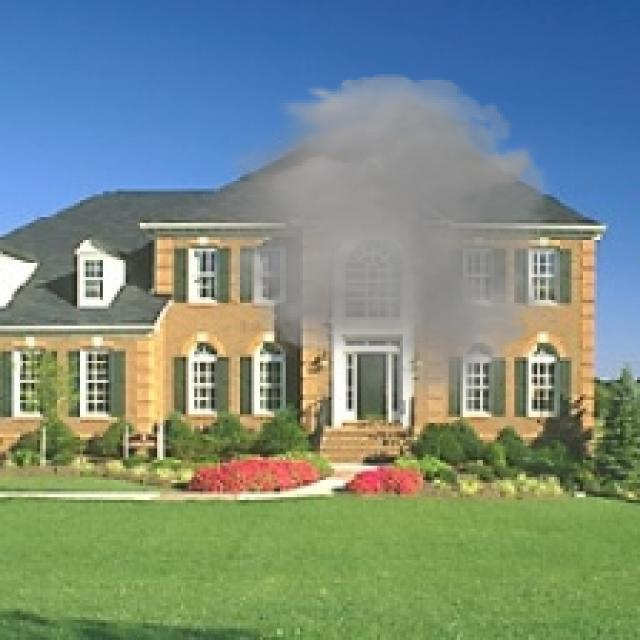Smoke: (180, 66, 583, 423)
